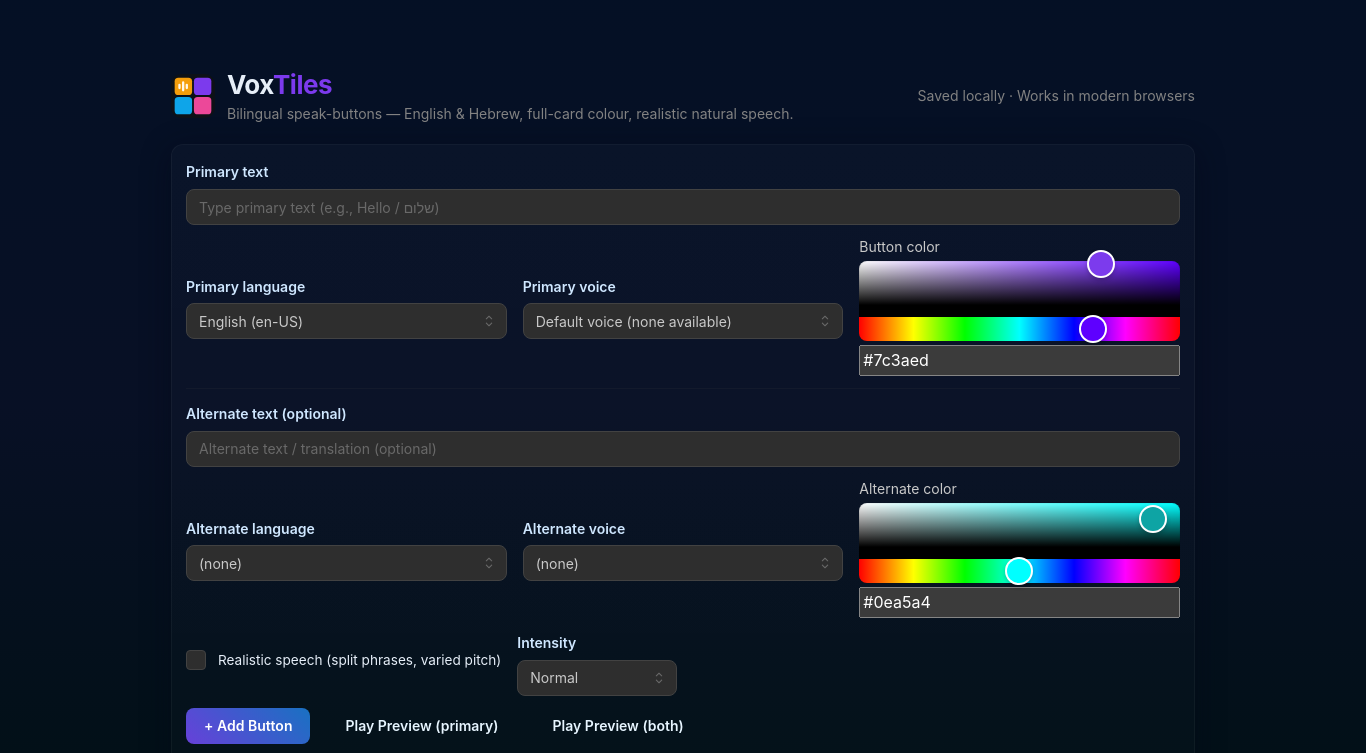
Test: App integration › opens edit modal when Edit clicked
Type "Editable" into the field labelled "Primary text" at coordinates (683, 207), box [186, 189, 1180, 225]
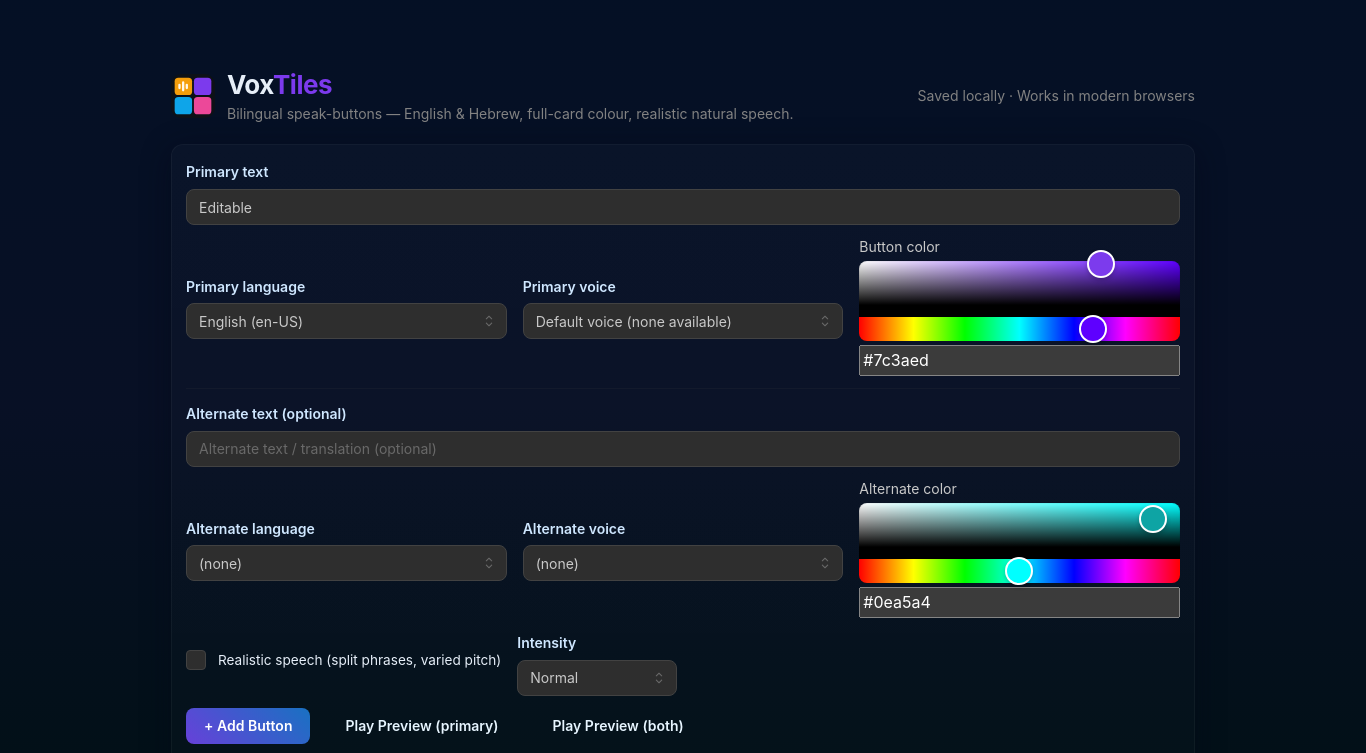
Click the button "+ Add Button" at coordinates (248, 726), box [186, 708, 310, 744]
(page scrolled)
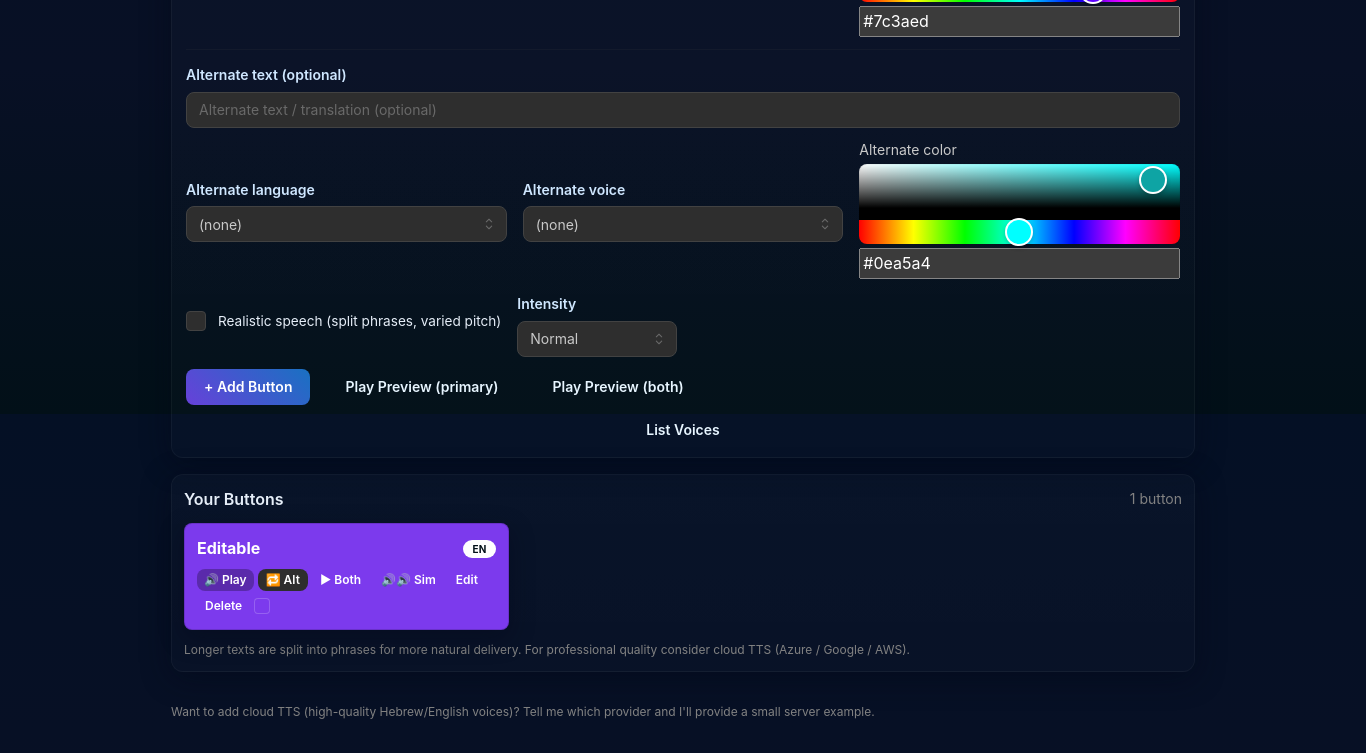
Result: the text "Editable" is shown at [197, 538, 260, 558]
Click the button "Edit" at coordinates (467, 580), box [448, 569, 486, 591]
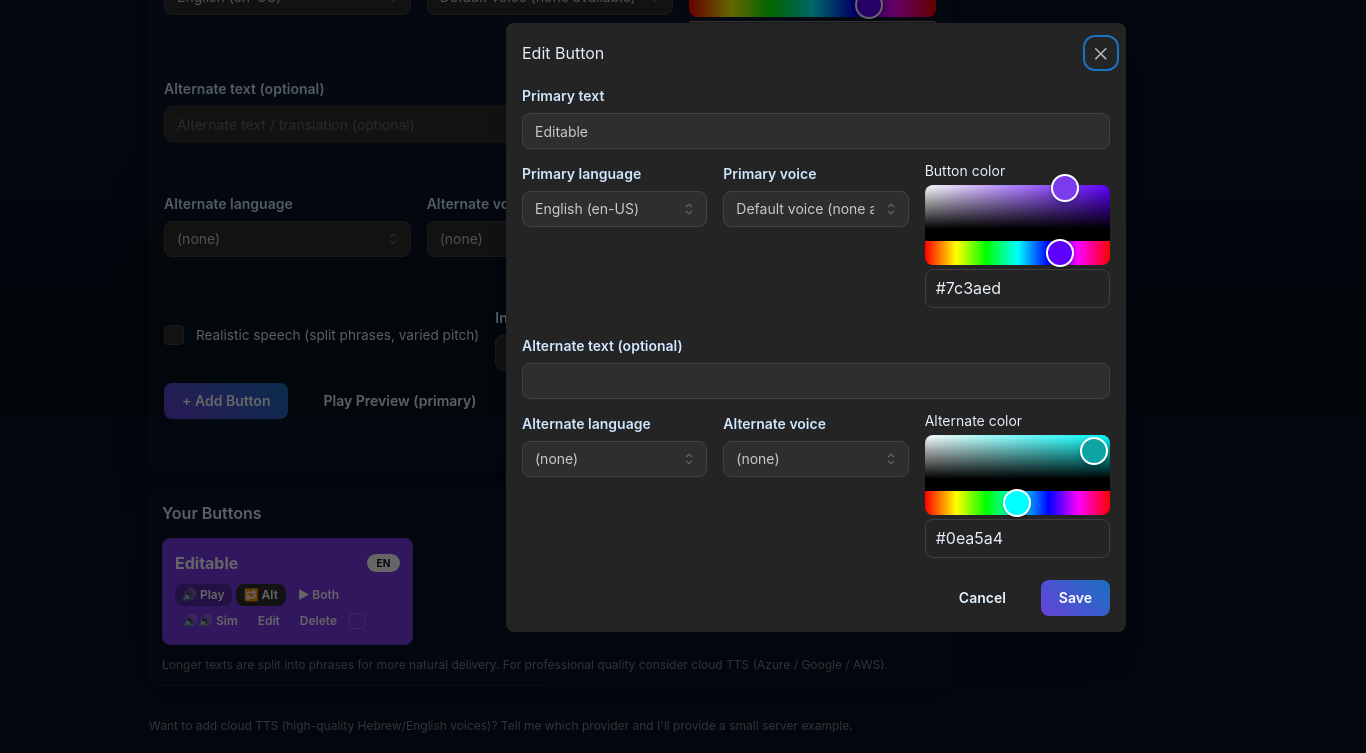
Result: the heading "Edit Button" is shown at [522, 45, 604, 61]
